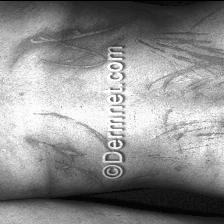Toxin: (147, 22, 224, 168), (31, 119, 102, 171), (23, 26, 103, 69)
